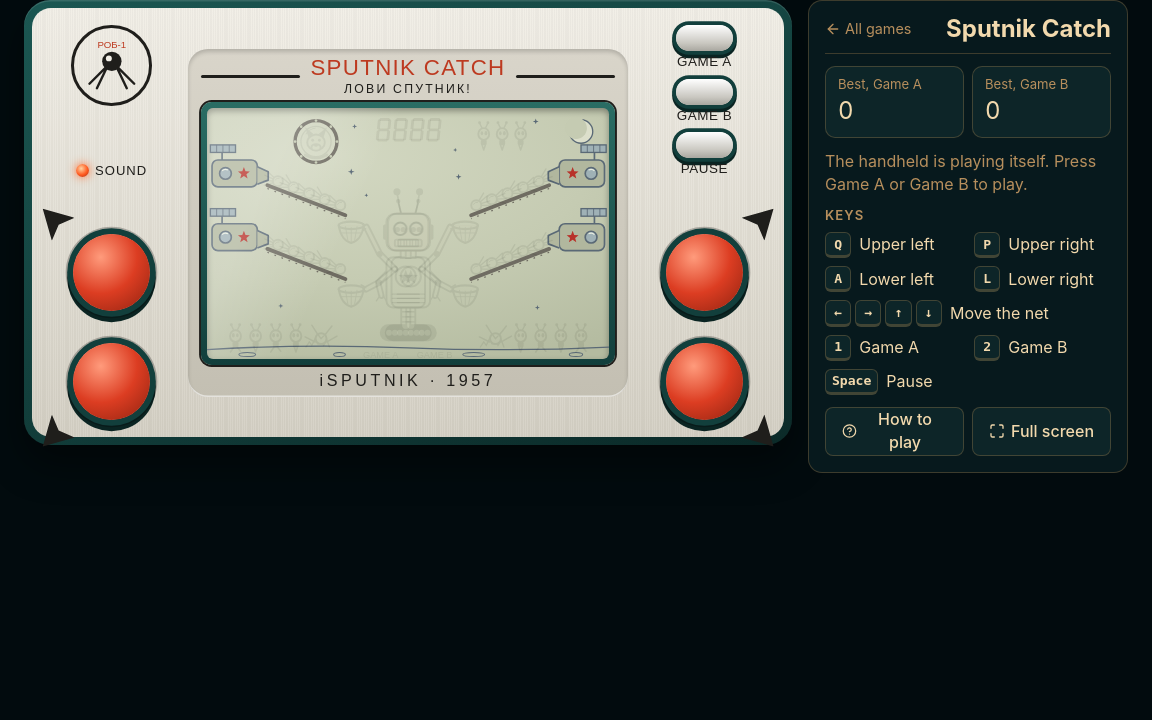
Test case: SputnikPage › sends a member's finished run to be replayed, and says where it stands
Click the button named "Start Game B" at (704, 92), box x1=676 y1=79 x2=733 y2=105
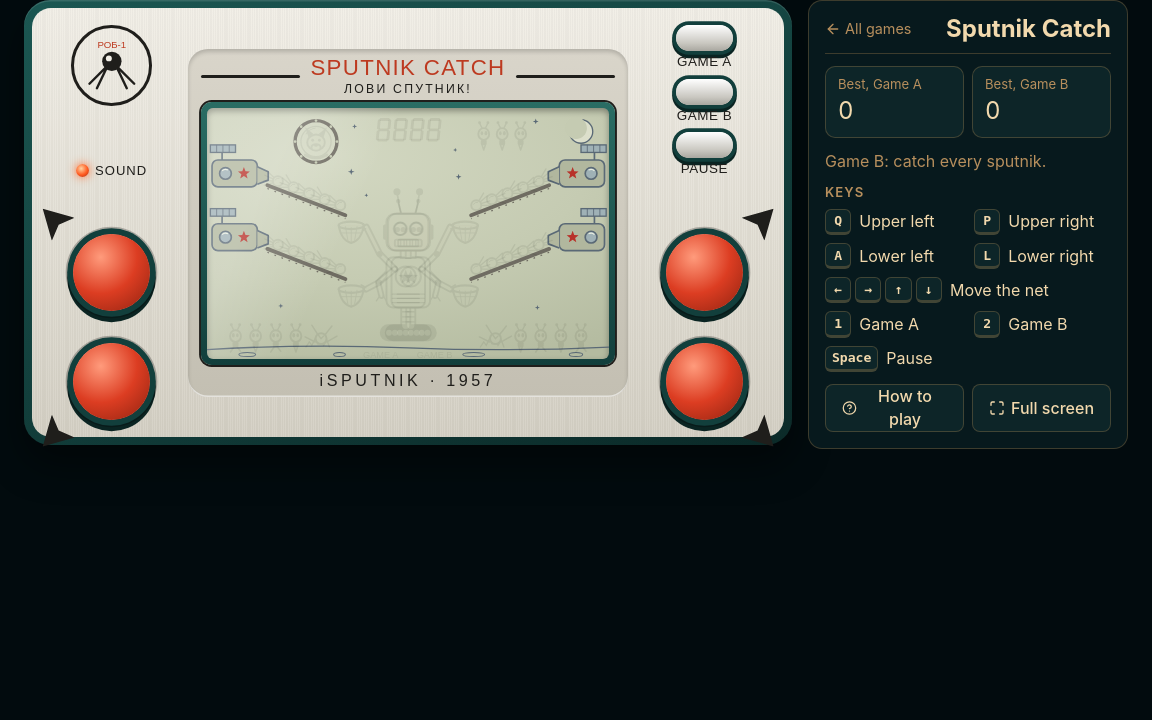
Press a
Wait 11900 ms
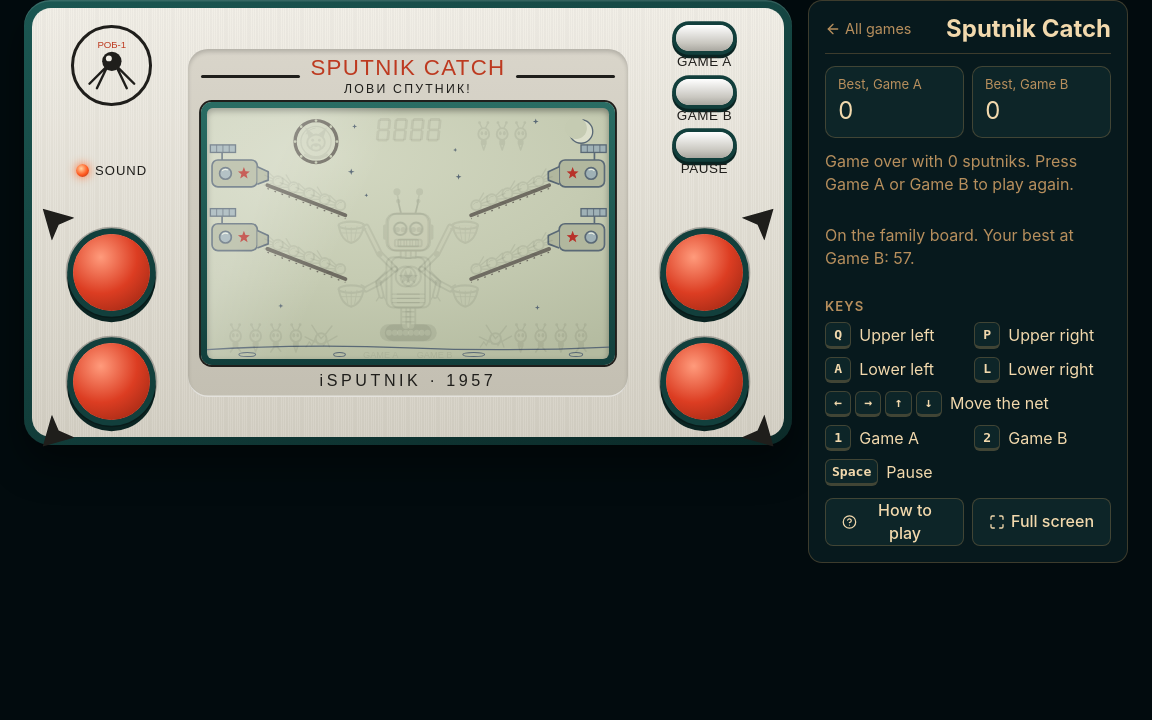
Now the text "On the family board. Your best at Game B: 57." is shown, box x1=825 y1=224 x2=1111 y2=271
